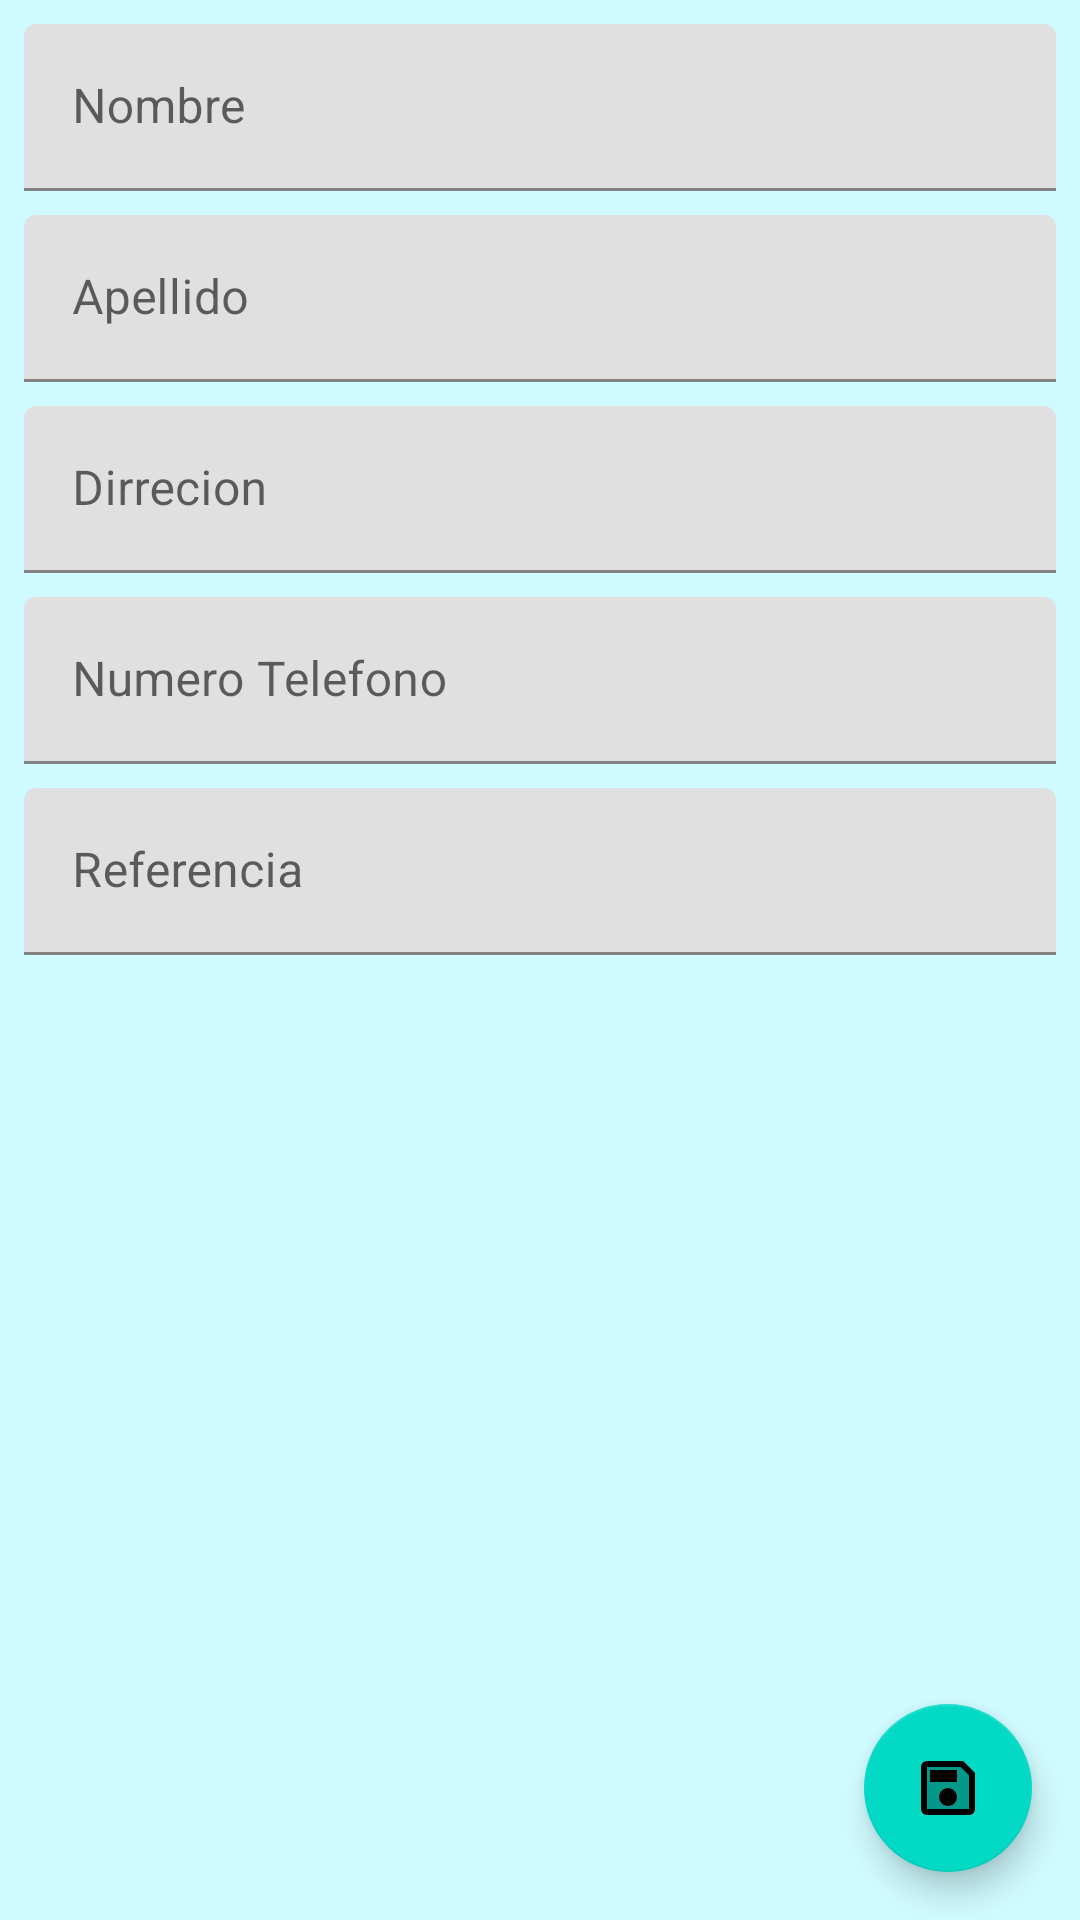

Icons on this 1080px x 1920px Android screen, each with the point to tap as (x,y):
guardar: (948,1788)
